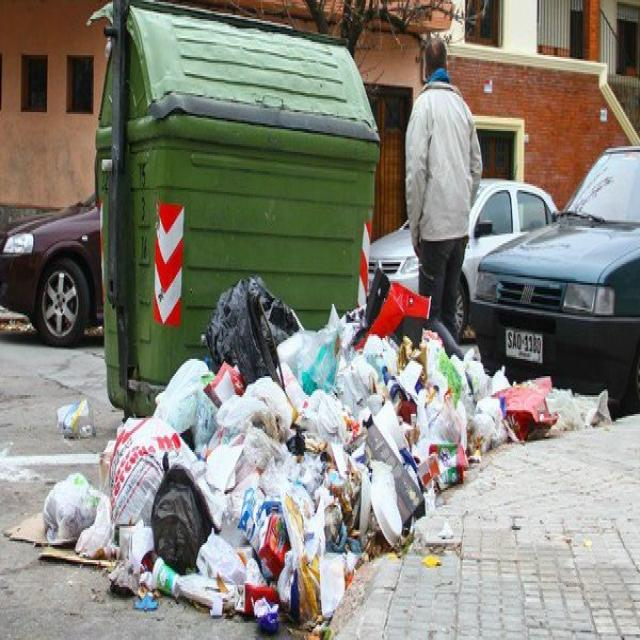garbage: (210, 268, 338, 638), (7, 413, 208, 613), (342, 266, 465, 572), (466, 355, 613, 445), (156, 349, 212, 436), (56, 393, 100, 439)
